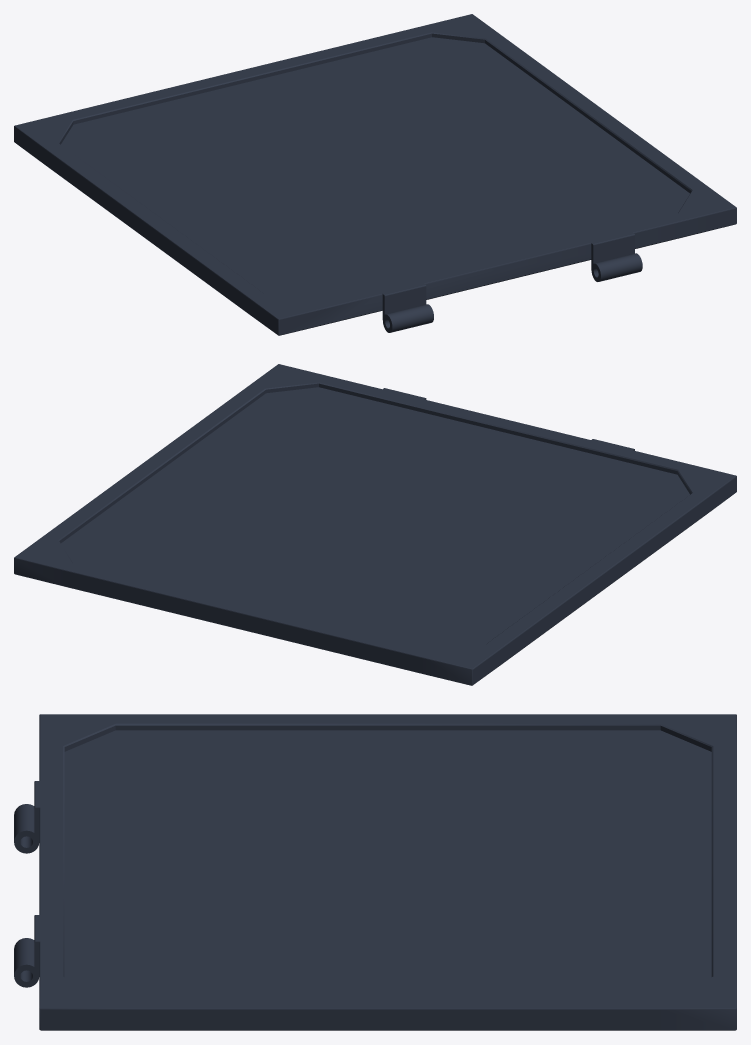
Rendered from closed-box_couvercle.obj.
3 views of the same model, one above another, from view 1: azimuth 30°, elevation 25°; view 2: azimuth 150°, elevation 25°; view 3: azimuth 270°, elevation 25° (orthographic). The views are drawn at different scales.
Visible parts, largest first — view 1: Couvercle; view 2: Couvercle; view 3: Couvercle.
Boxes of the visible parts, <box> form: Couvercle: <box>14,14,736,335</box>; Couvercle: <box>14,364,736,685</box>; Couvercle: <box>14,714,736,1030</box>.
Bounding box in the file's own units: 550 × 40.1 × 570.
